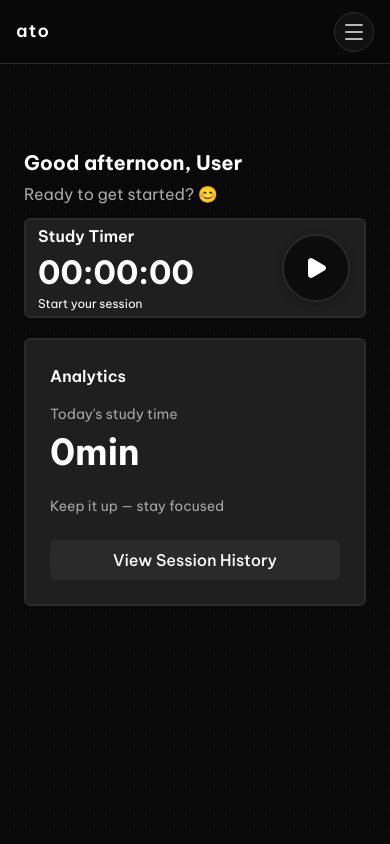
Test: App › renders menu when user is authorized
This screenshot has width=390, height=844.
Click the button named "Toggle Menu" at (354, 32), box [334,12,374,52]
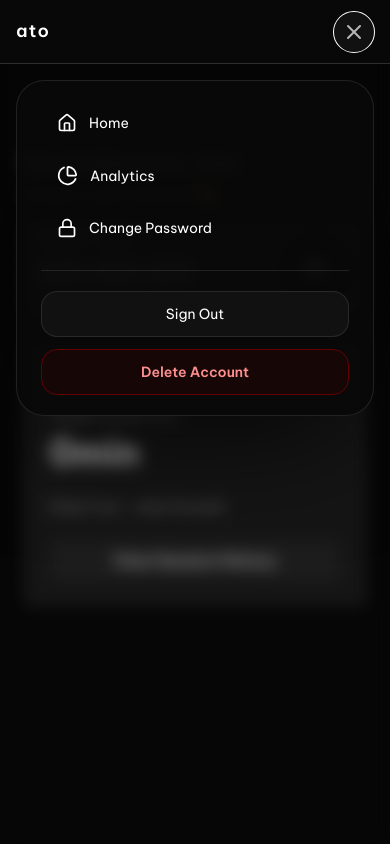
Result: the link "Analytics" is shown at [57,165,155,186]
